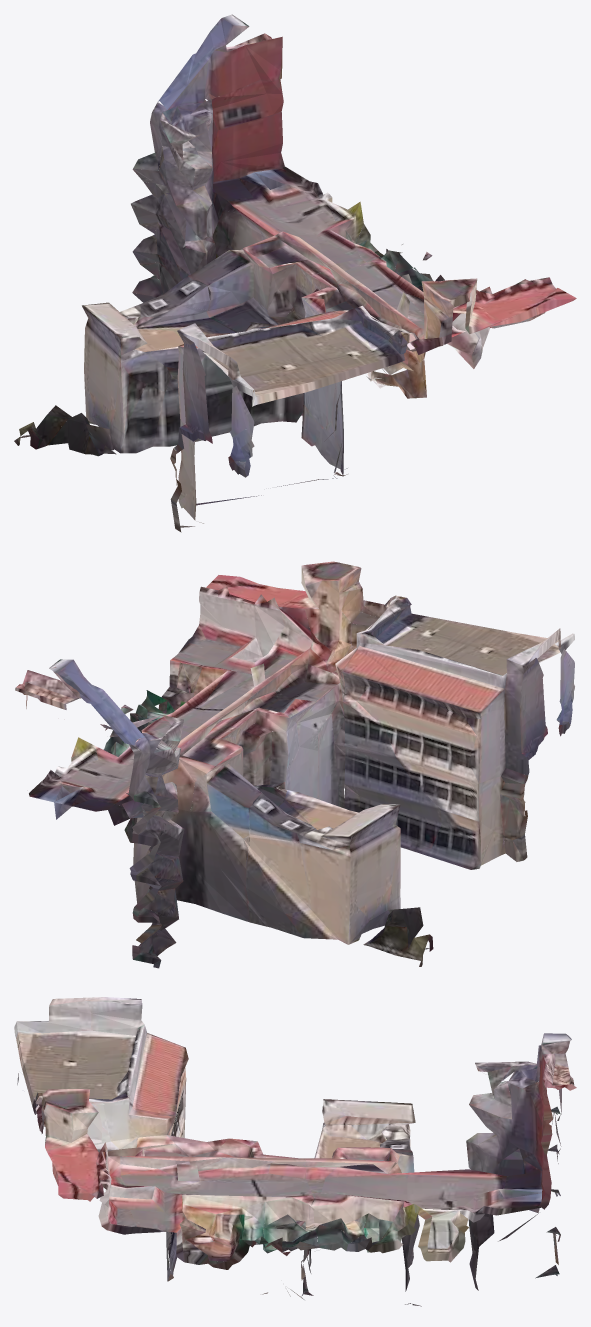
The picture shows the model from 3 angles, top to bottom: view 1: azimuth 30°, elevation 25°; view 2: azimuth 150°, elevation 25°; view 3: azimuth 270°, elevation 25°; orthographic projection. The views are drawn at different scales.
Visible parts, largest first — view 1: Mesh_0; view 2: Mesh_0; view 3: Mesh_0.
Part boxes in pixels (x1,y1,x2,y2): Mesh_0: (14,14,576,532); Mesh_0: (15,561,574,968); Mesh_0: (14,997,576,1306).
Size of the model in its own units: 32.31 by 23.96 by 41.52.
Materials: 2 (2 with a texture image).
